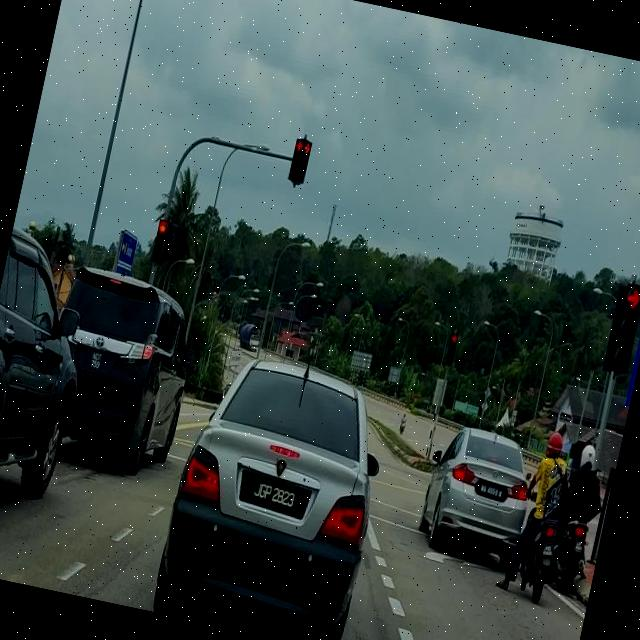red_light: (608, 281, 640, 374), (287, 134, 306, 180), (150, 217, 168, 263), (294, 138, 312, 184), (445, 332, 458, 366)
